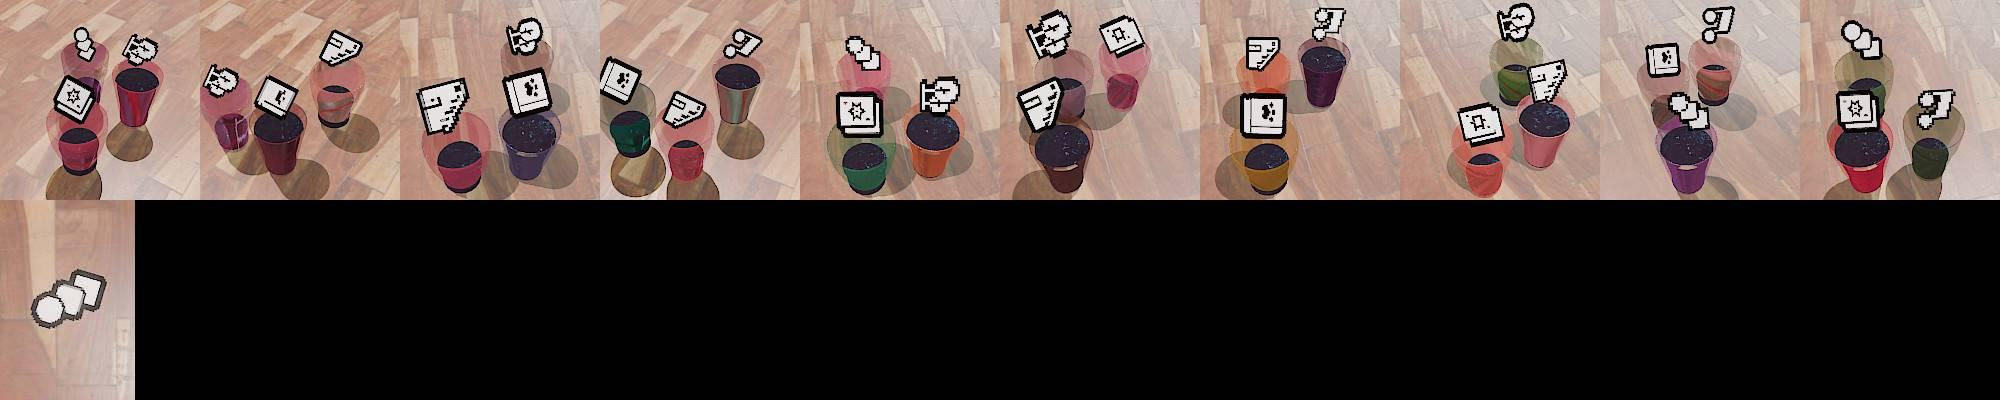icon: (29, 267, 109, 330), (416, 76, 469, 135), (1017, 76, 1064, 133), (501, 67, 553, 118), (1456, 100, 1507, 147), (1025, 10, 1072, 61), (836, 90, 884, 139), (1240, 91, 1288, 139), (254, 73, 301, 121), (597, 56, 643, 105), (53, 73, 98, 122), (1098, 14, 1146, 59), (318, 27, 365, 67), (661, 89, 707, 129), (920, 74, 962, 115), (1836, 90, 1880, 129), (1529, 59, 1567, 104), (1841, 19, 1882, 60), (1668, 90, 1711, 128), (1917, 88, 1957, 128), (1496, 2, 1535, 43), (506, 18, 544, 57), (1244, 36, 1281, 73), (845, 34, 881, 71), (1645, 42, 1681, 79), (202, 63, 240, 98), (1700, 5, 1735, 43), (722, 27, 763, 59), (122, 33, 159, 67), (1312, 5, 1346, 40), (73, 27, 96, 62)
